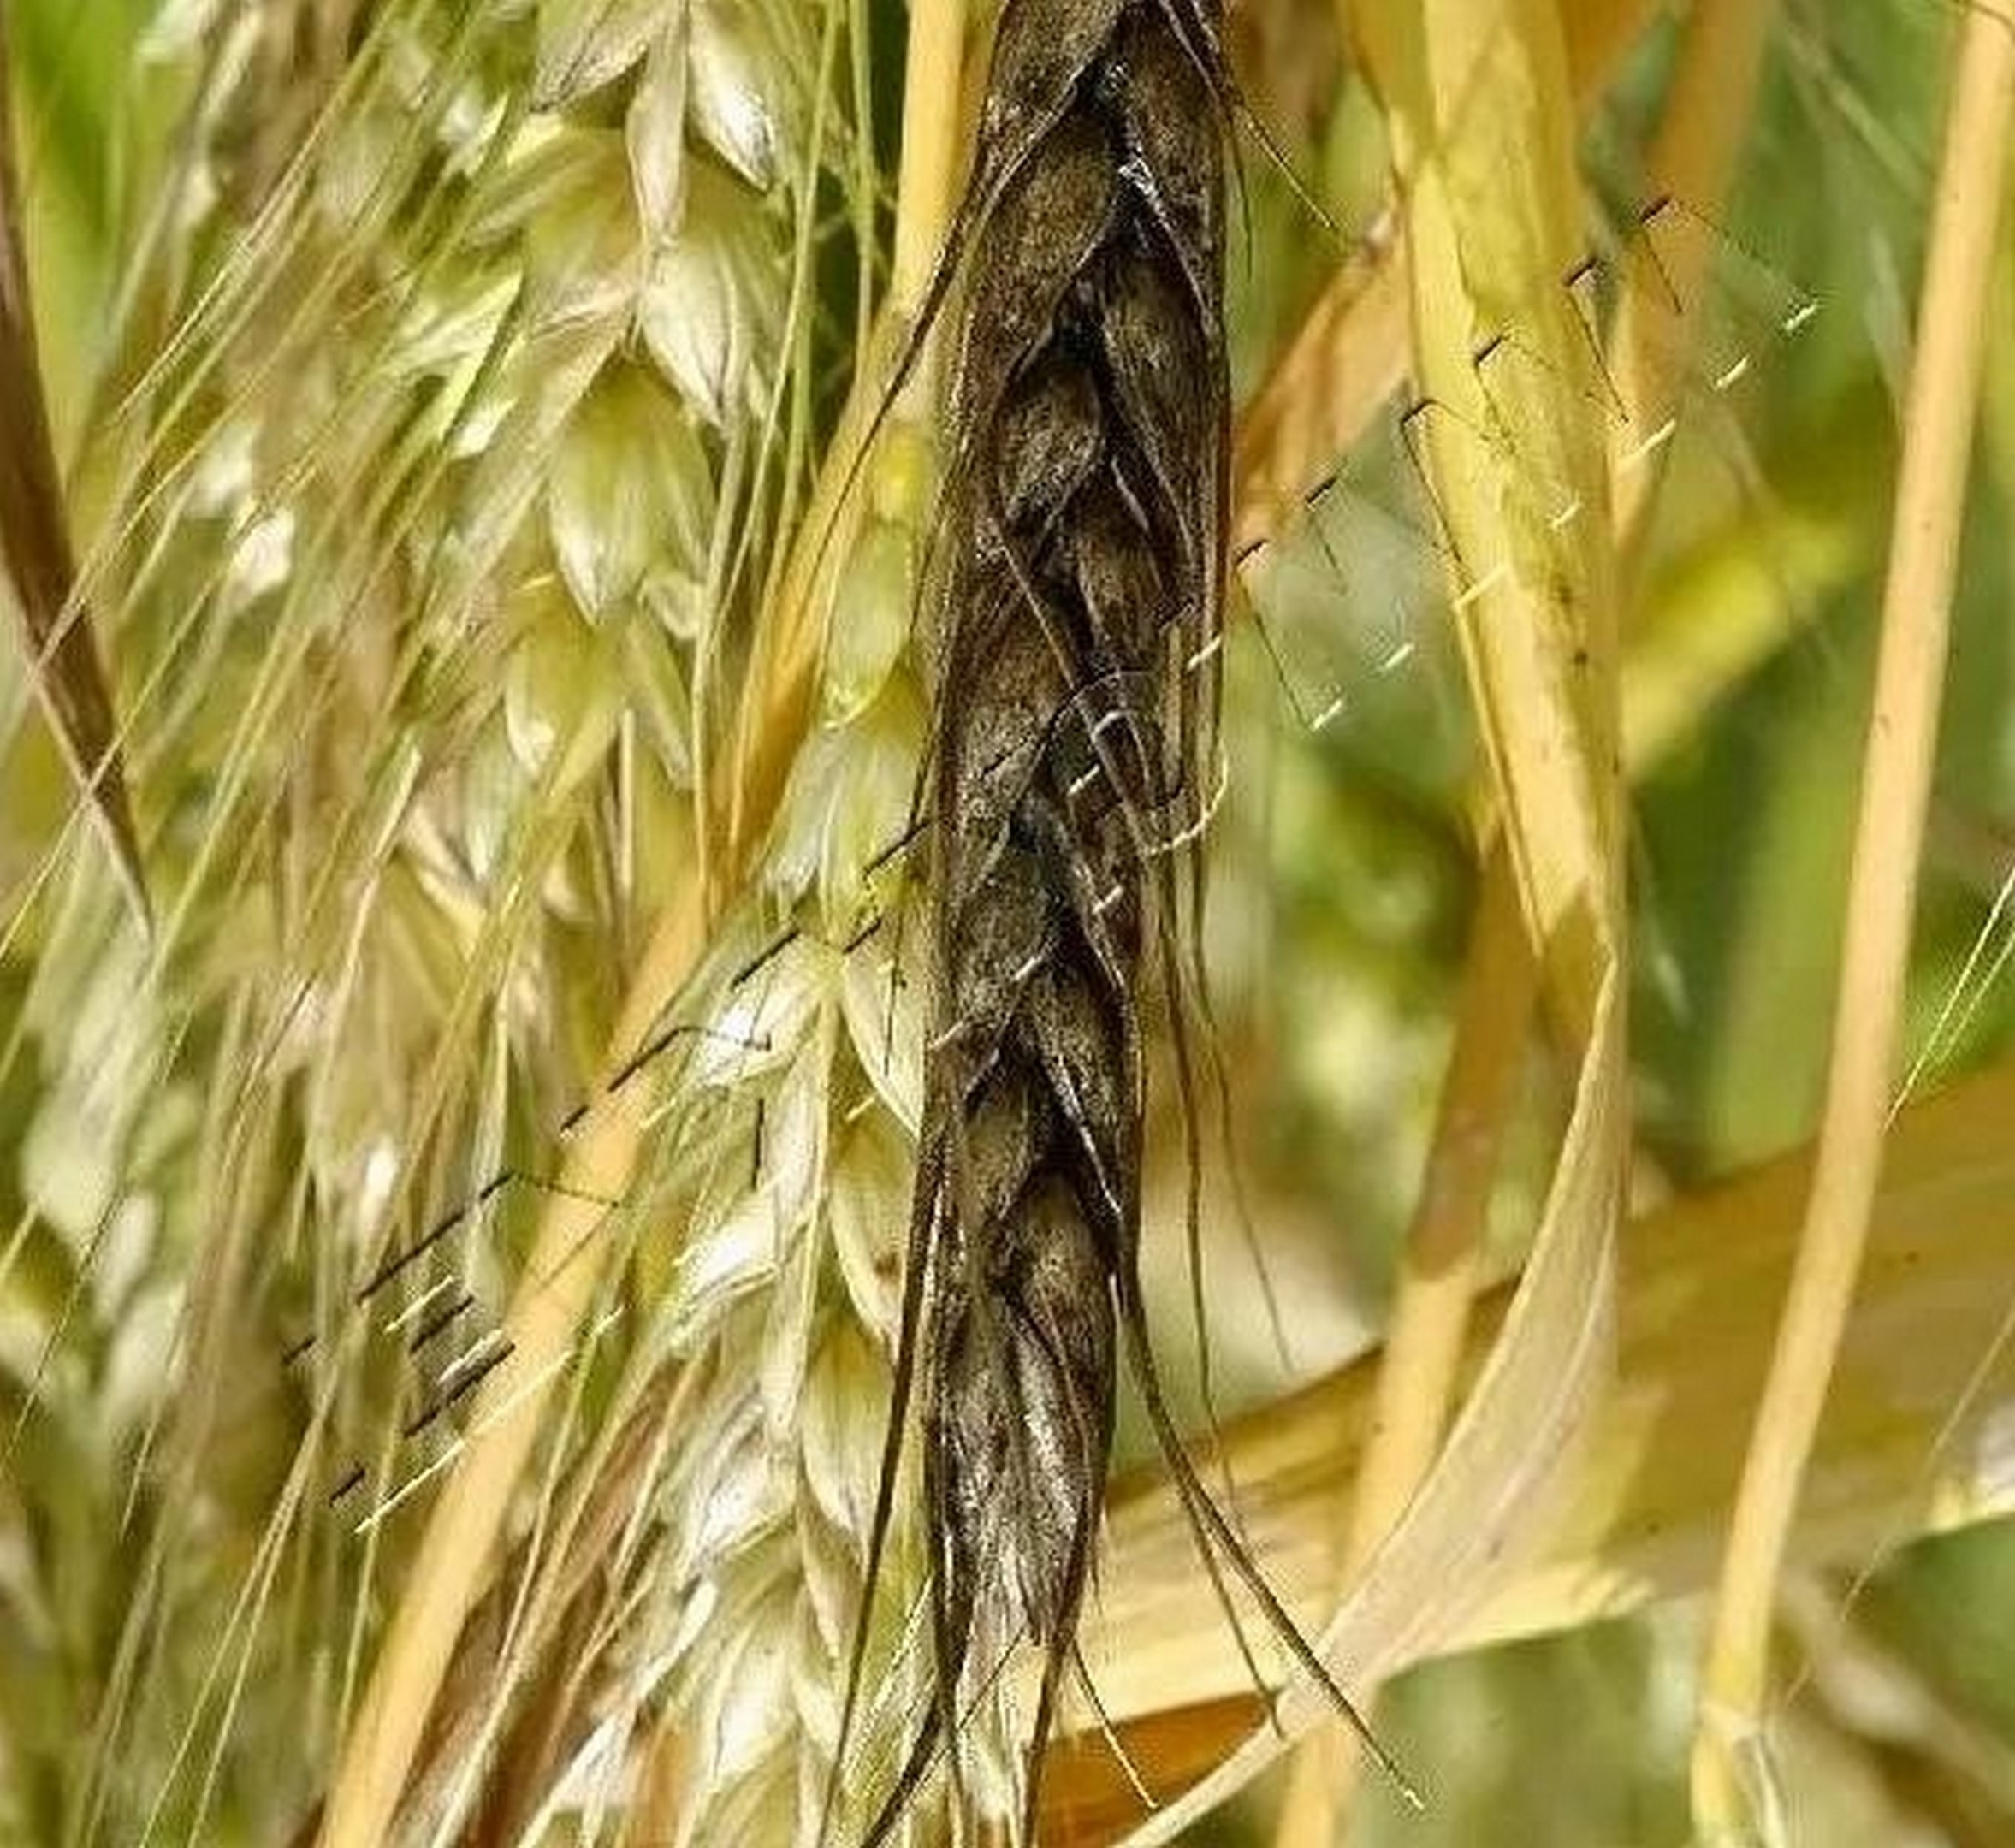Wheat Loose Smut: (888, 14, 1278, 1648)
